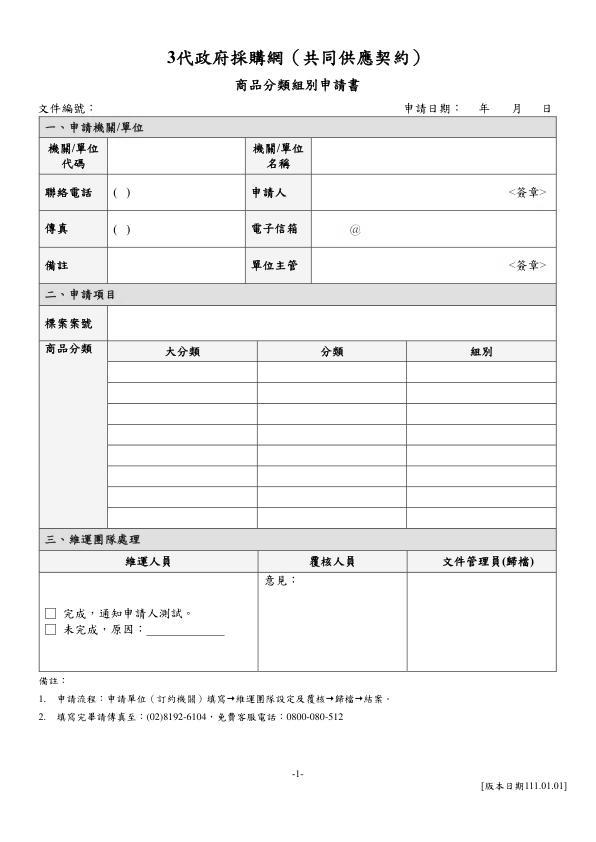table: (35, 114, 561, 674)
text: (35, 693, 395, 725), (163, 45, 423, 69), (233, 74, 362, 94), (403, 99, 556, 114), (478, 779, 568, 794), (36, 101, 96, 114), (36, 674, 69, 687)
